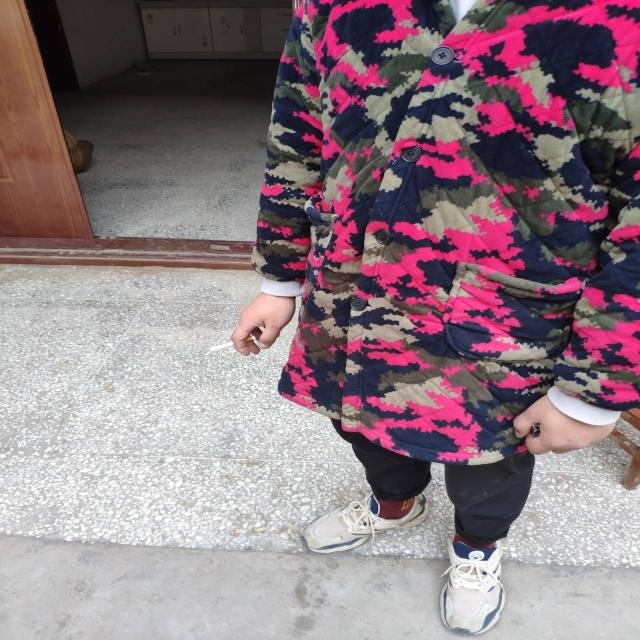cigarette: (206, 339, 236, 355)
